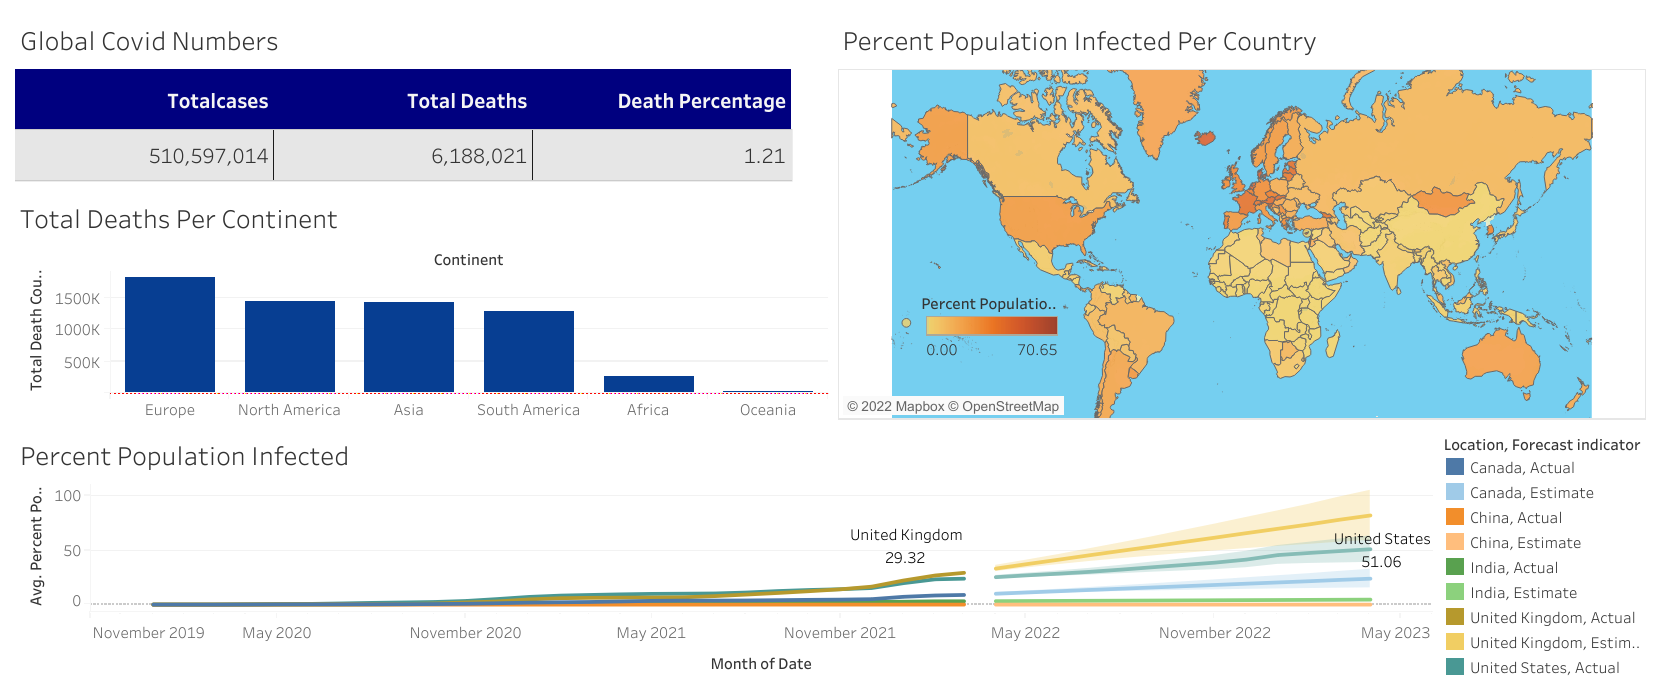

The dashboard page shown, as its layout file describes it:
{"tool":"tableau","page":{"name":"Dashboard 1","canvas":[1329,558],"ordinal":0},"visuals":[{"type":"worksheet","title":"Sheet 1","mark":"Automatic","box":[8,8,658.3,142]},{"type":"worksheet","title":"Sheet 3","mark":"Automatic","box":[666.3,8,654.7,332]},{"type":"worksheet","title":"Sheet 2","mark":"Automatic","rows":["TotalDeathCount"],"cols":["location"],"box":[8,150,658.3,190]},{"type":"legend","title":"Sheet 3","param":"[federated.0k18yw70hyguie1cxiumx1rcohws].[sum:PercentPopulationInfected:qk]","box":[737,229,114,61]},{"type":"worksheet","title":"Sheet 4","mark":"Automatic","rows":["PercentPopulationInfected"],"cols":["date"],"box":[8,340,1142.2,210]},{"type":"legend","title":"Sheet 4","param":"[federated.1buc4r009pumq4197q13l11wa7y7].[none:location:nk]\n[federated.1buc4r009","box":[1150.2,340,170.8,210]}]}

Visuals, with their boxes in screenshot pixels (x1, y1, x2, y2), scaled from the page's 1329x558 canvas onto the 1660x696 screenshot:
"Sheet 1" worksheet: bbox=[10, 10, 832, 187]
"Sheet 3" worksheet: bbox=[832, 10, 1650, 424]
"Sheet 2" worksheet: bbox=[10, 187, 832, 424]
"Sheet 3" legend: bbox=[921, 286, 1063, 362]
"Sheet 4" worksheet: bbox=[10, 424, 1437, 686]
"Sheet 4" legend: bbox=[1437, 424, 1650, 686]
